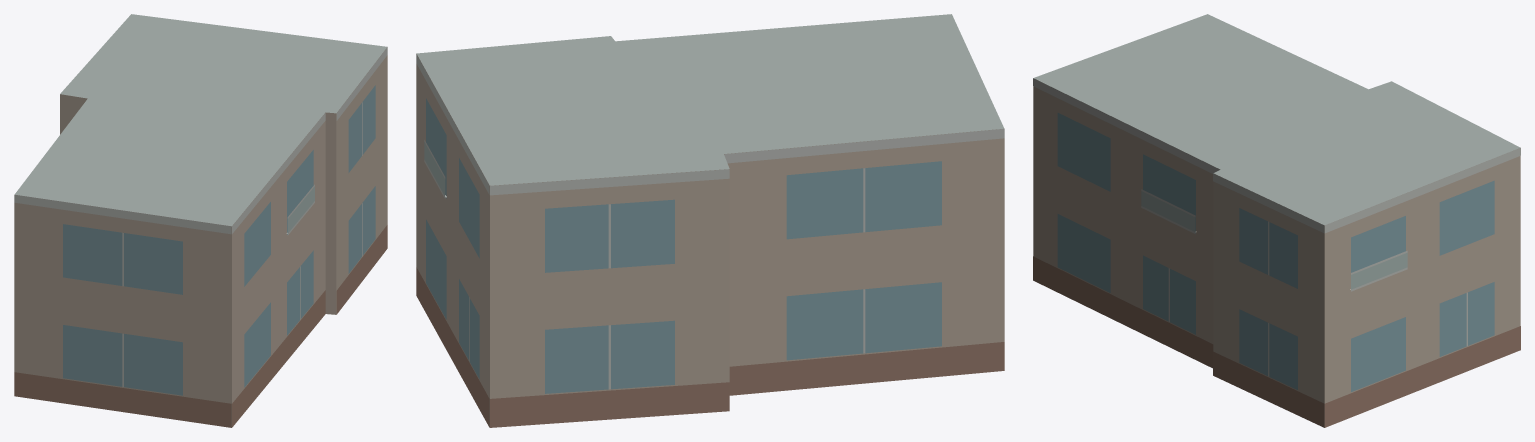
The model's file is survey-upis-32992497.glb.
3 views of the same model, side by side, from view 1: azimuth 30°, elevation 25°; view 2: azimuth 150°, elevation 25°; view 3: azimuth 270°, elevation 25° (orthographic). The views are drawn at different scales.
Visible parts, largest first — view 1: survey-upis-32992497.tmp; view 2: survey-upis-32992497.tmp; view 3: survey-upis-32992497.tmp.
Boxes of the visible parts, x1,y1,x2,y2 form: survey-upis-32992497.tmp: (14,14,387,427); survey-upis-32992497.tmp: (416,14,1004,427); survey-upis-32992497.tmp: (1033,14,1520,427).
Bounding box in the file's own units: 13.67 × 6.1 × 13.32.
